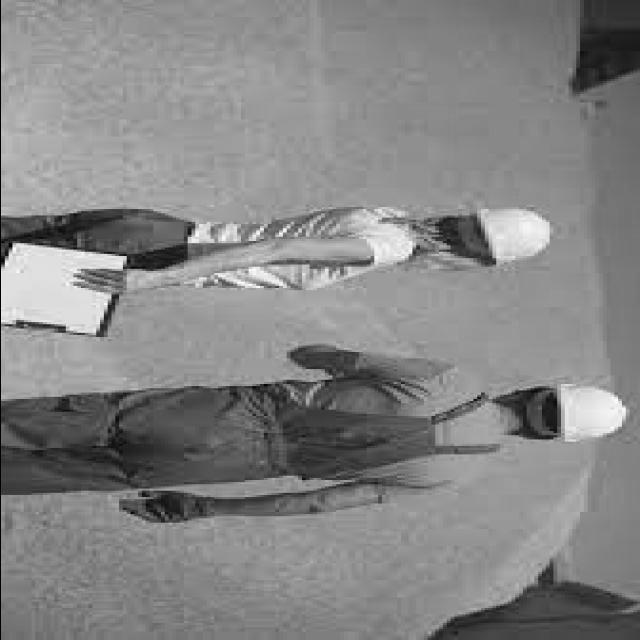construction helmet: (522, 384, 625, 444), (450, 205, 552, 265)
